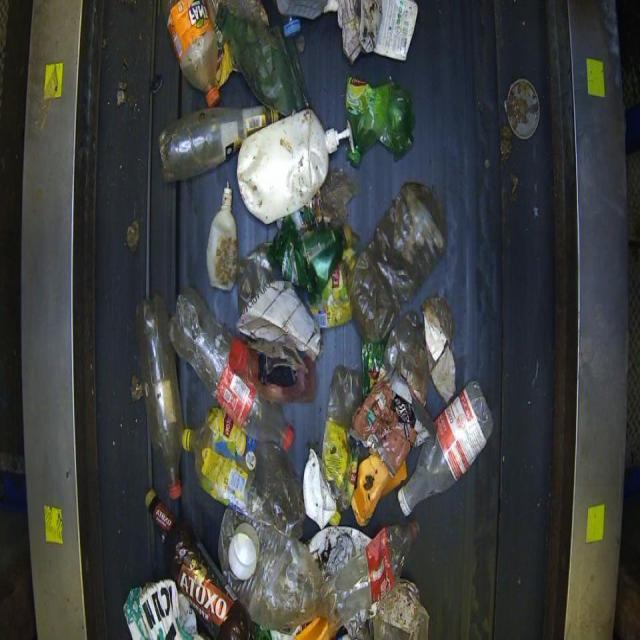cups: (235, 107, 350, 225), (396, 379, 494, 516), (157, 104, 280, 183)
other-trash: (126, 0, 495, 638)
